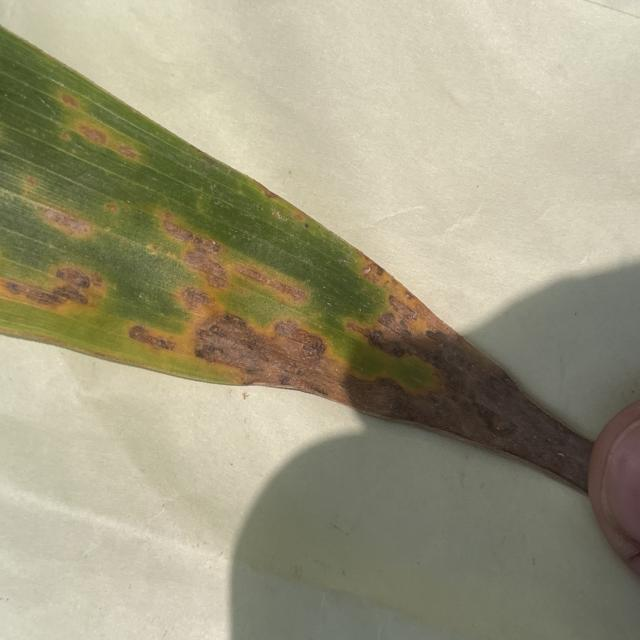millet_rust: (0, 29, 584, 500)
